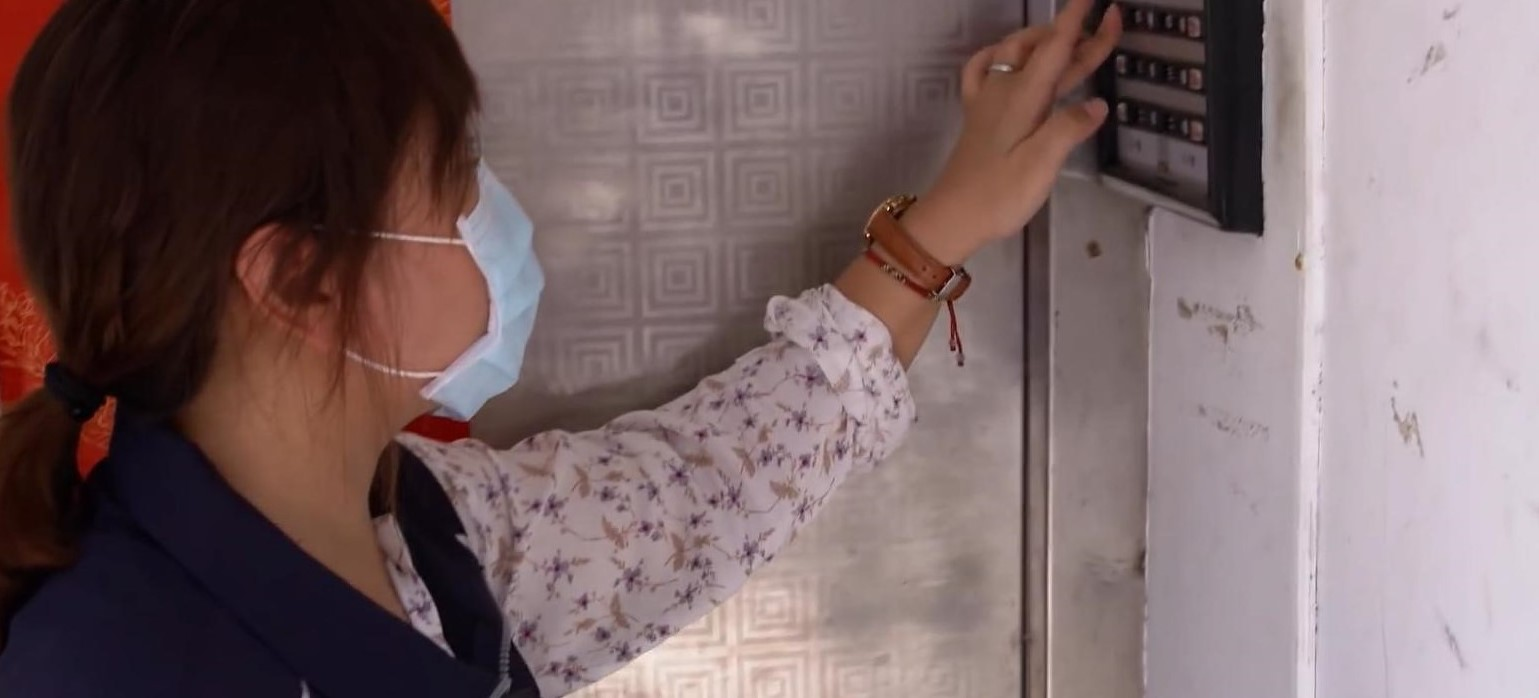with_mask: (371, 135, 504, 396)
